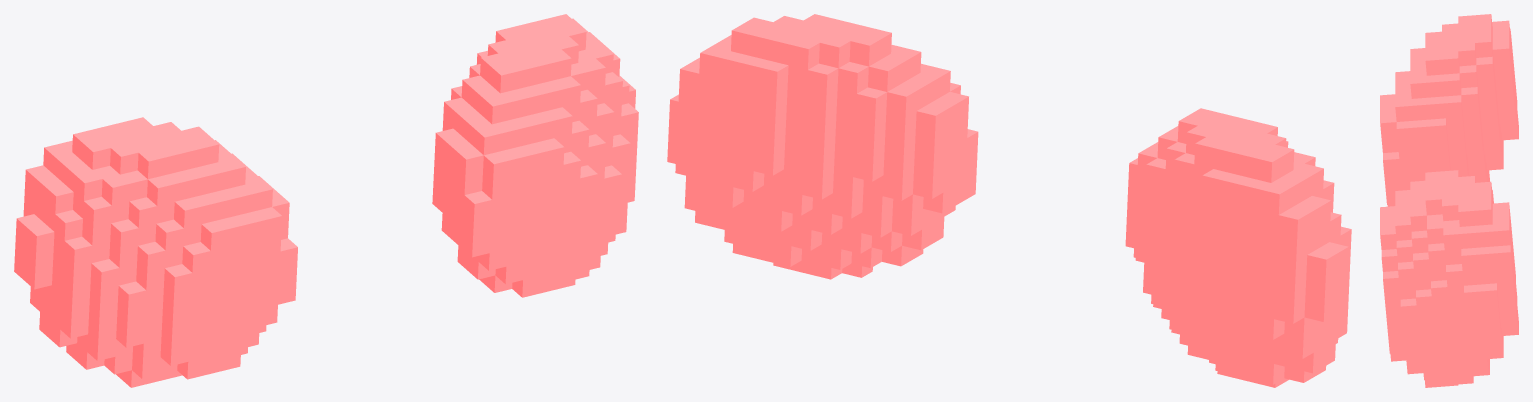
Rendered from round-orange.gltf.
3 renders of one model, left to right at view 1: azimuth 30°, elevation 25°; view 2: azimuth 150°, elevation 25°; view 3: azimuth 270°, elevation 25°, orthographic. The views are drawn at different scales.
Visible parts, largest first — view 1: 眼睛.1; view 2: 眼睛.1; view 3: 眼睛.1.
Part boxes in pixels (left/top/right/bottom): 眼睛.1: left=14, top=14, right=638, bottom=387; 眼睛.1: left=667, top=14, right=1351, bottom=387; 眼睛.1: left=1380, top=14, right=1518, bottom=387.
Size of the model in its own units: 2.72 by 0.9899 by 0.671.
